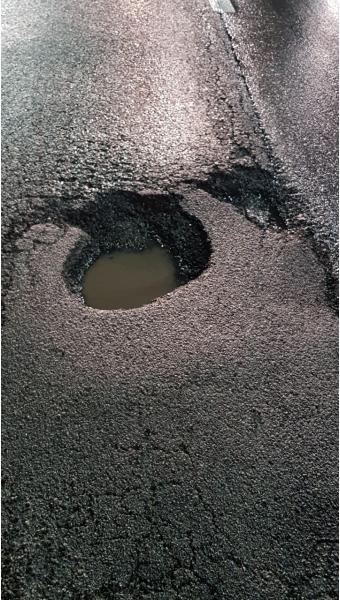pothole: (48, 176, 219, 320), (190, 141, 311, 236)
